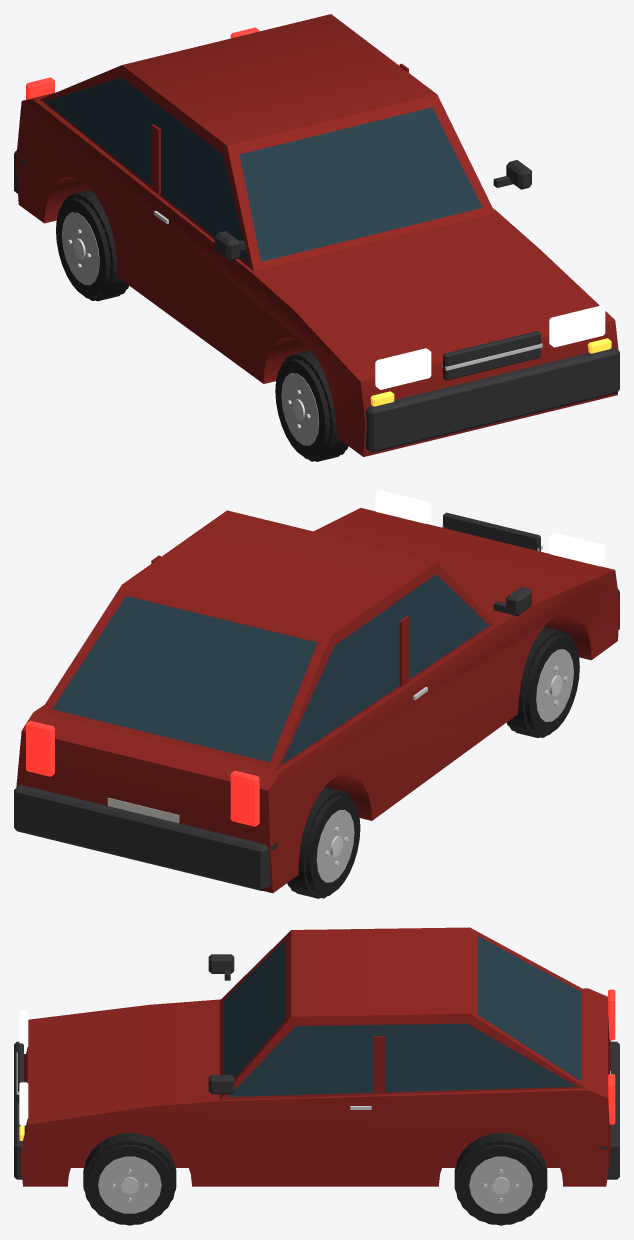
Rendered from city_hatchback.glb.
3 views of the same model, one above another, from view 1: azimuth 30°, elevation 25°; view 2: azimuth 150°, elevation 25°; view 3: azimuth 270°, elevation 25° (orthographic). The views are drawn at different scales.
Parts seen in each view (by area): view 1: body.001, wheel_RR.001, wheel_FR.001; view 2: body.001, wheel_RR.001, wheel_FR.001; view 3: body.001, wheel_FL.001, wheel_RL.001.
Part boxes in pixels (<box>): body.001: <box>14,14,619,456</box>; wheel_RR.001: <box>56,189,128,301</box>; wheel_FR.001: <box>275,350,348,461</box>; body.001: <box>14,490,619,893</box>; wheel_RR.001: <box>287,787,360,898</box>; wheel_FR.001: <box>506,626,579,737</box>; body.001: <box>14,927,619,1186</box>; wheel_FL.001: <box>83,1132,176,1225</box>; wheel_RL.001: <box>454,1132,547,1225</box>.
Size of the model in its own units: 1.97 by 1.49 by 4.
